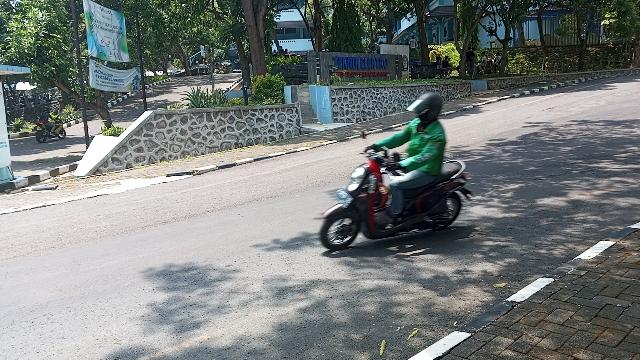helm: (408, 94, 443, 120)
motor: (322, 152, 474, 250)
